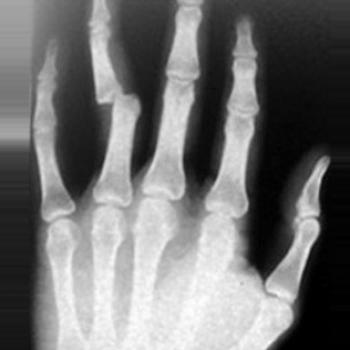Fracture: (91, 82, 145, 112)
